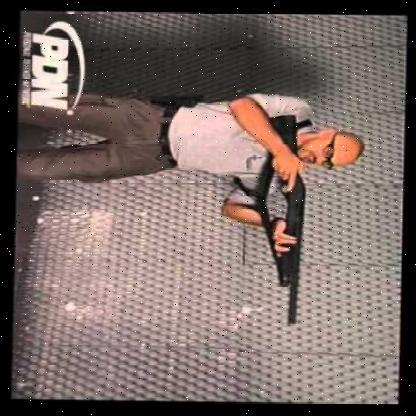rifle: (257, 108, 310, 330)
